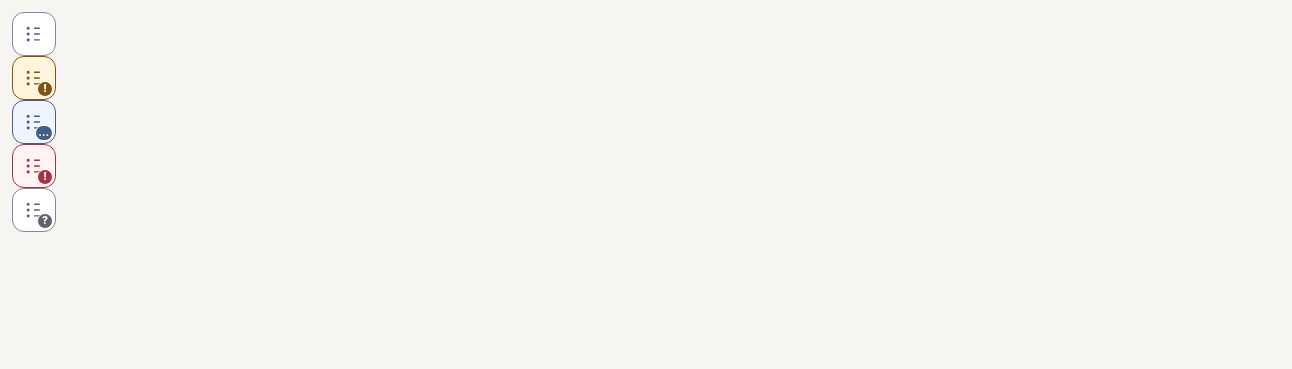
it: should name and mark the organization state before opening edit details
Expected: the 2nd text "!" is shown, [37, 169, 53, 185]
Click the button named "Music information: Attention — File organization needs attention" at [34, 166], box [12, 144, 56, 188]
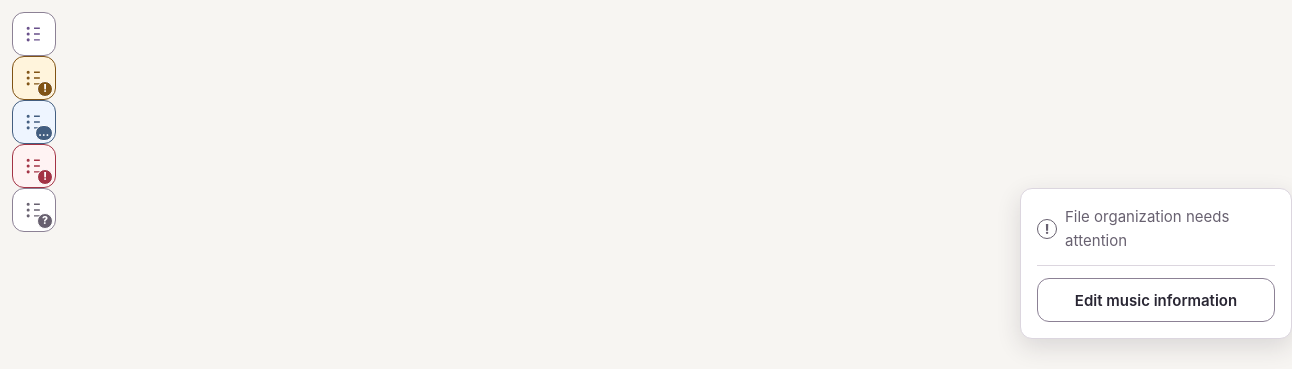
Now the text "File organization needs attention" is shown, box [1065, 207, 1229, 250]
